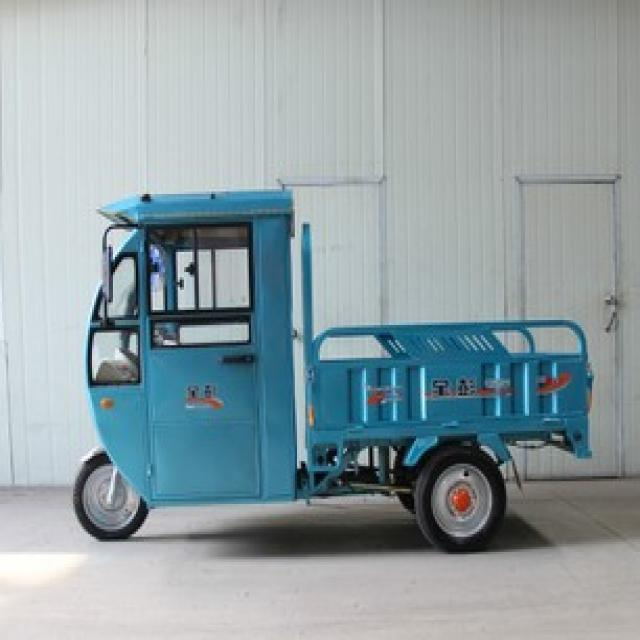tricycle: (67, 184, 594, 549)
